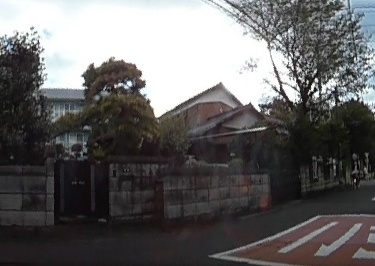person: (352, 160, 361, 186)
